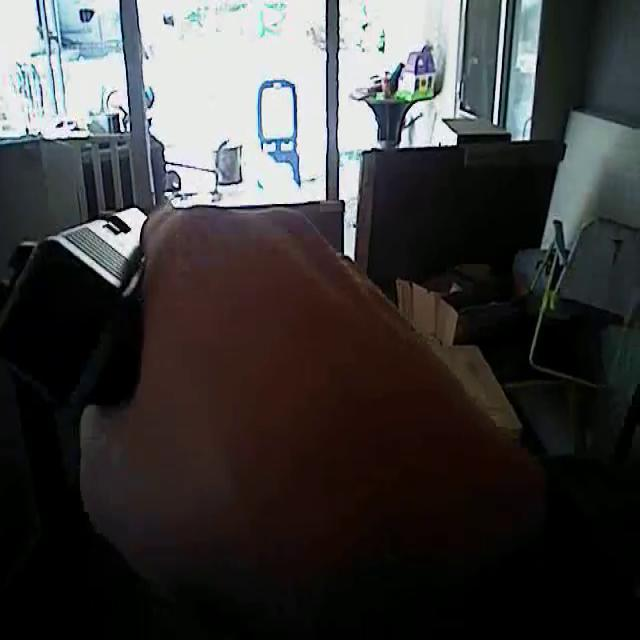gun: (11, 154, 307, 578)
